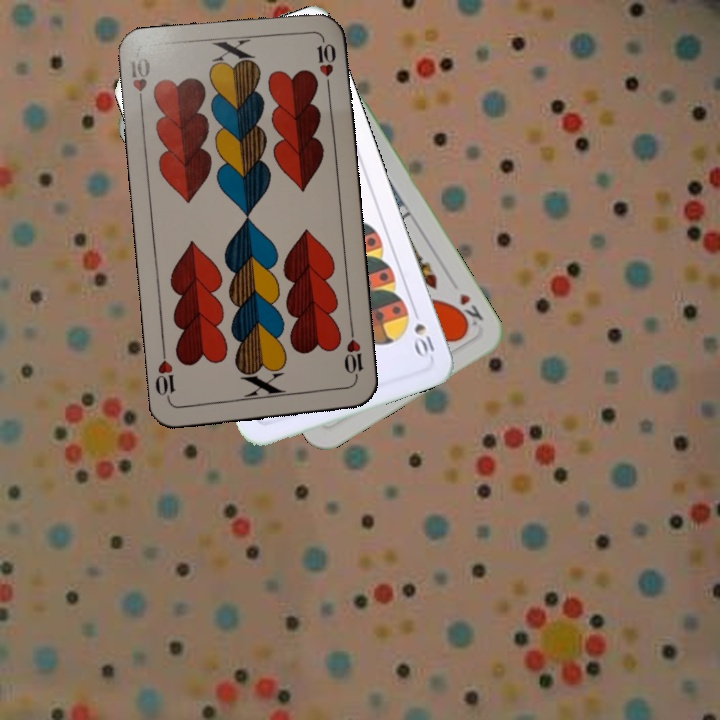H10: (125, 53, 154, 113), (340, 325, 365, 384)
HK: (450, 289, 486, 331)
S10: (408, 303, 437, 361)
